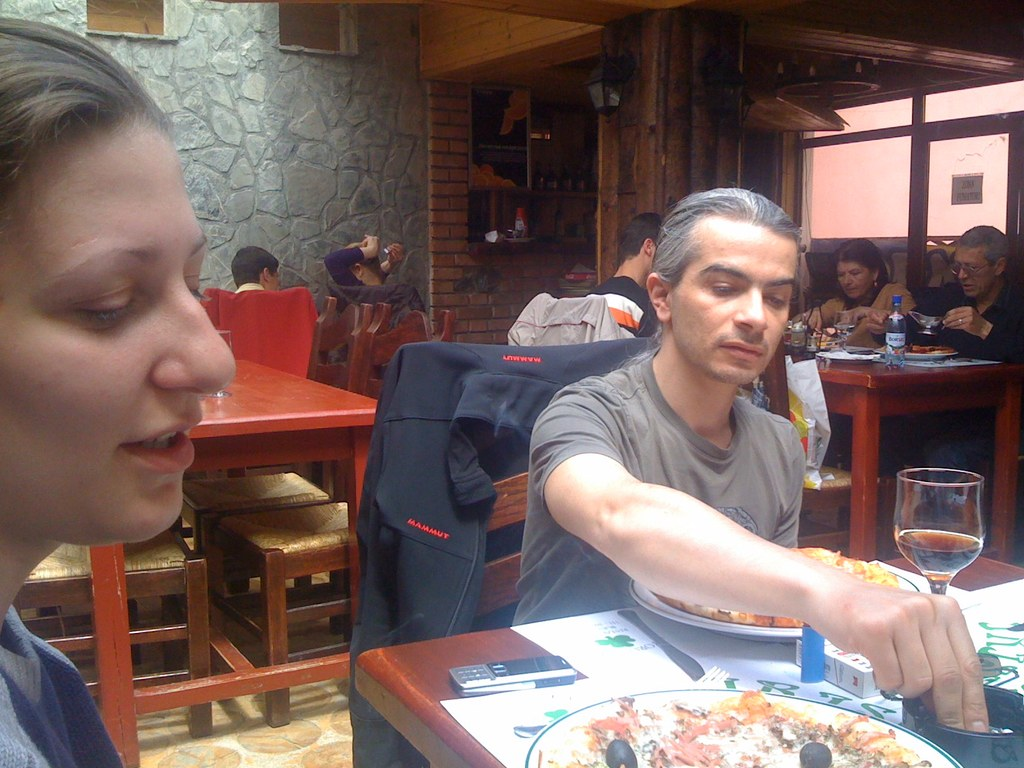Pizza: (549, 671, 917, 762)
